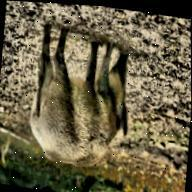boar: (13, 9, 149, 191)
